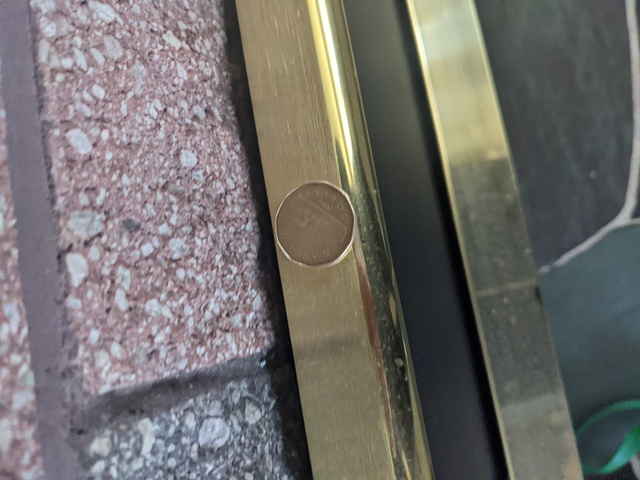loonie: (266, 177, 364, 264)
